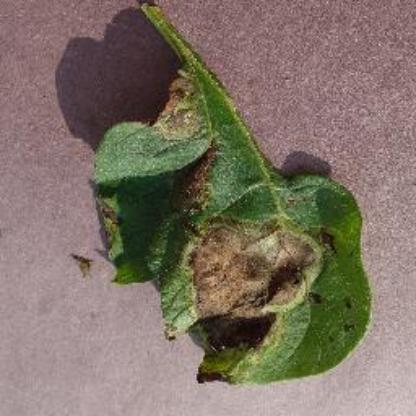Late-Blight: (55, 1, 375, 399)
